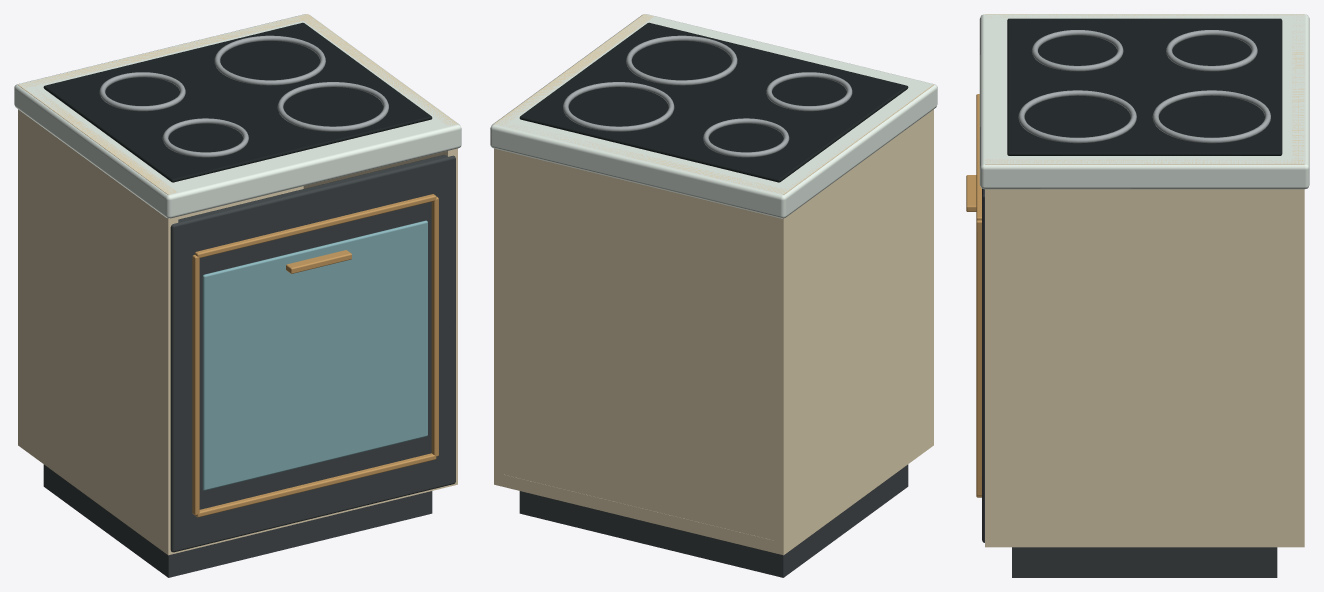
File: stove_palais-98440bcdfa52.glb
3 renders of one model, left to right at view 1: azimuth 30°, elevation 25°; view 2: azimuth 150°, elevation 25°; view 3: azimuth 270°, elevation 25°, orthographic. The views are drawn at different scales.
Visible parts, largest first — view 1: surface_ivory, surface_graphite, surface_glass, surface_black, surface_porcelain, surface_brass, surface_steel; view 2: surface_ivory, surface_black, surface_porcelain, surface_graphite, surface_steel; view 3: surface_ivory, surface_black, surface_porcelain, surface_graphite, surface_steel, surface_brass.
Part boxes in pixels (<box>): surface_ivory: <box>18,14,457,555</box>; surface_graphite: <box>43,154,455,577</box>; surface_glass: <box>202,220,427,490</box>; surface_black: <box>43,22,432,182</box>; surface_porcelain: <box>14,14,461,218</box>; surface_brass: <box>192,194,438,517</box>; surface_steel: <box>99,35,388,157</box>; surface_ivory: <box>494,14,933,555</box>; surface_black: <box>519,22,908,182</box>; surface_porcelain: <box>490,14,937,218</box>; surface_graphite: <box>519,464,908,577</box>; surface_steel: <box>563,35,852,157</box>; surface_ivory: <box>985,14,1304,547</box>; surface_black: <box>1007,18,1282,155</box>; surface_porcelain: <box>979,14,1309,189</box>; surface_graphite: <box>982,188,1277,577</box>; surface_steel: <box>1018,30,1270,143</box>; surface_brass: <box>966,94,981,497</box>.
Bounding box in the file's own units: 0.704 × 0.9169 × 0.6663.
